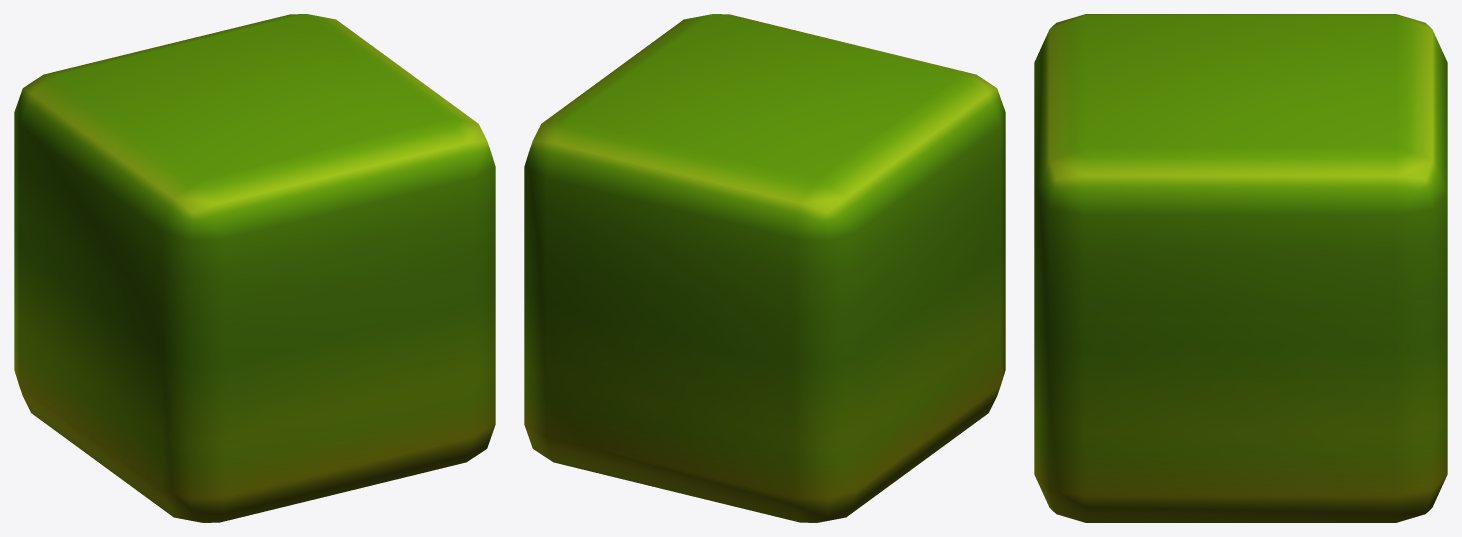
File: block_wood_2_0.fbx
The picture shows the model from 3 angles, left to right: view 1: azimuth 30°, elevation 25°; view 2: azimuth 150°, elevation 25°; view 3: azimuth 270°, elevation 25°; orthographic projection. The views are drawn at different scales.
Parts seen in each view (by area): view 1: block_wood_2_0; view 2: block_wood_2_0; view 3: block_wood_2_0.
Part boxes in pixels (x1,y1,x2,y2): block_wood_2_0: (14, 14, 495, 522); block_wood_2_0: (524, 14, 1005, 522); block_wood_2_0: (1034, 14, 1447, 522).
Bounding box in the file's own units: 200 × 200 × 200.
